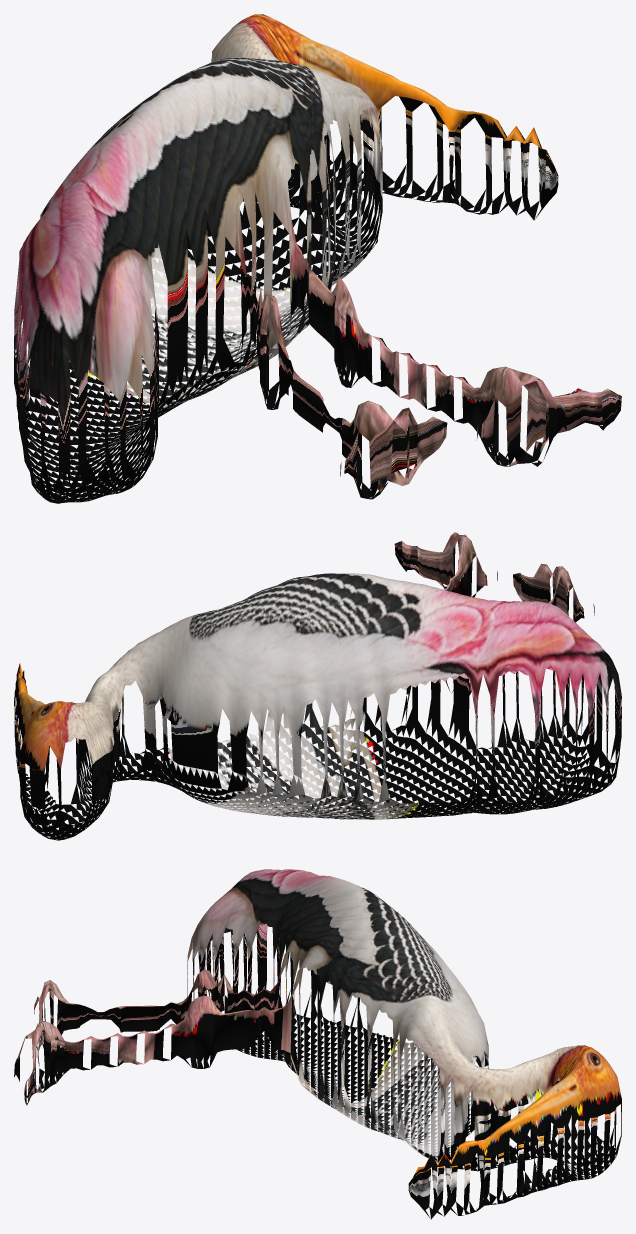
The model's file is stork.glb.
The picture shows the model from 3 angles, top to bottom: view 1: azimuth 30°, elevation 25°; view 2: azimuth 150°, elevation 25°; view 3: azimuth 270°, elevation 25°; orthographic projection. The views are drawn at different scales.
Parts seen in each view (by area): view 1: stork_obj; view 2: stork_obj; view 3: stork_obj.
Boxes of the visible parts, <box> form: stork_obj: <box>14,14,621,503</box>; stork_obj: <box>14,532,621,840</box>; stork_obj: <box>14,869,621,1219</box>.
Bounding box in the file's own units: 1.66 × 0.7631 × 1.9.
Materials: 1 (1 with a texture image).
